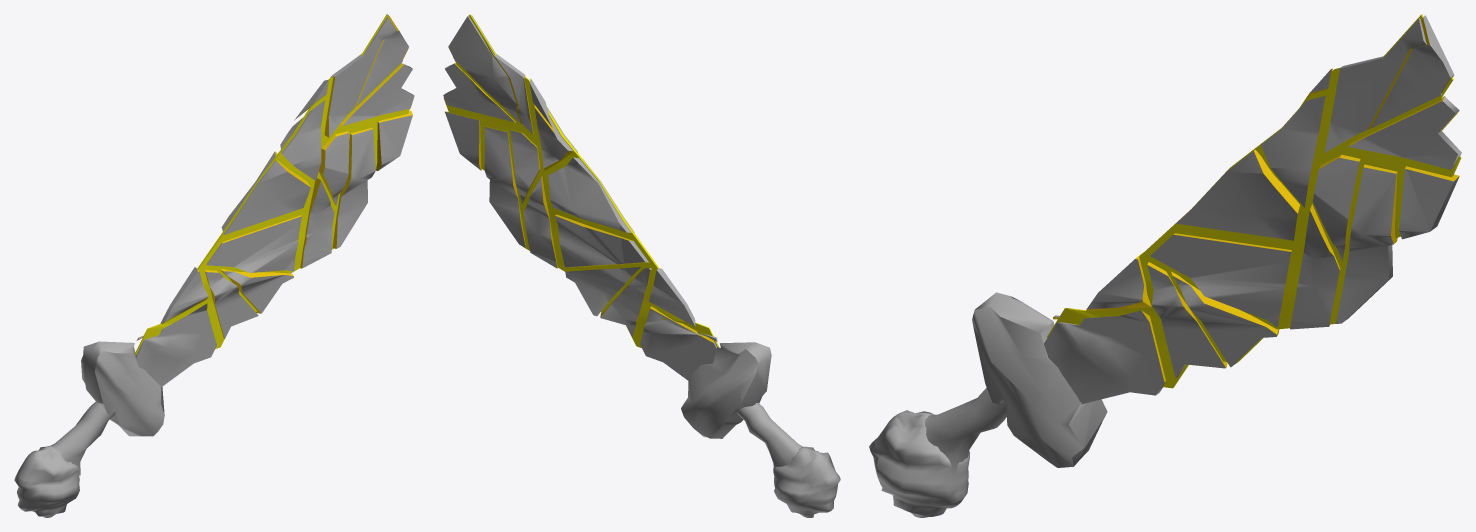
The model's file is Broadsword.fbx.
3 views of the same model, side by side, from view 1: azimuth 30°, elevation 25°; view 2: azimuth 150°, elevation 25°; view 3: azimuth 330°, elevation 25° (orthographic). The views are drawn at different scales.
Parts seen in each view (by area): view 1: sword_1; view 2: sword_1; view 3: sword_1.
Part boxes in pixels (x1,y1,x2,y2): sword_1: (14,14,414,517); sword_1: (443,14,840,517); sword_1: (869,14,1461,517).
Bounding box in the file's own units: 1.93 × 1.96 × 0.2646.
